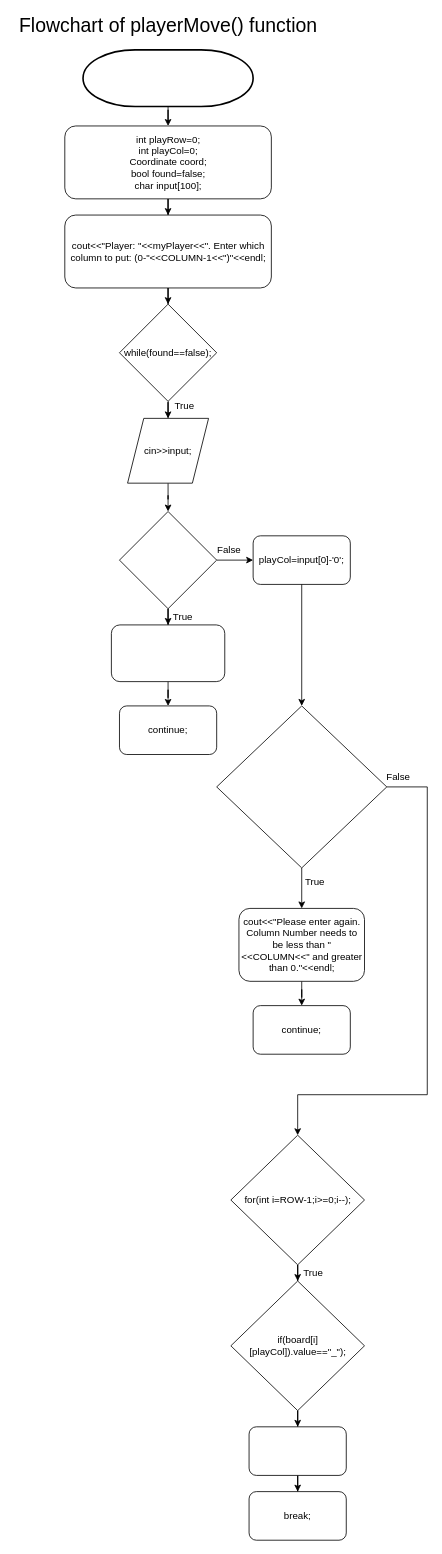
This 442x1554 diagram has some shape labels left out. Each missing label, with the centre of its shape:
Coordinate playerMove(Space board[ROW][COLUMN],string myPlayer);: point 168,78
cout<<"Please enter a number. We don't accept.";: point 168,653
found=true; playRow=i;: point 297,1450
if(input[0]<'0'||input[0]>'9');: point 168,560
while(playCol>=COLUMN||playCol<0);: point 301,786
